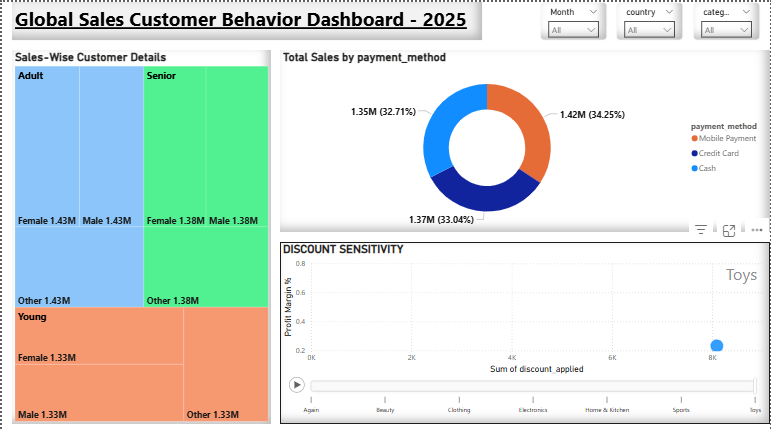

Layout of this report page (visuals, bound fields, positions):
{"tool":"powerbi","page":{"name":"CUSTOMER BEHAVIOR","canvas":[1280,720],"ordinal":2},"visuals":[{"type":"treemap","title":"Sales-Wise Customer Details","fields":{"Group":["Dim_Customer.customer_age_group"],"Details":["Dim_Customer.customer_gender"],"Values":["sales fact_sales.Total Sales"]},"box":[16,80,432,624],"z":0},{"type":"donutChart","fields":{"Category":["sales fact_sales.payment_method"],"Y":["sales fact_sales.Total Sales"]},"box":[464,80,816,304],"z":1},{"type":"scatterChart","title":"DISCOUNT SENSITIVITY","fields":{"X":["Sum(sales fact_sales.discount_applied)"],"Y":["sales fact_sales.Profit Margin %"],"Size":["sales fact_sales.Total Sales"],"Play":["Dim_Product.category"]},"box":[464,400,816,304],"z":2},{"type":"textbox","box":[16,0,784,64],"z":3},{"type":"slicer","fields":{"Values":["Dim_Date.Month Name"]},"box":[896,0,112,64],"z":4},{"type":"slicer","fields":{"Values":["DIM_STORE.country"]},"box":[1024,0,112,64],"z":5},{"type":"slicer","fields":{"Values":["Dim_Product.category"]},"box":[1152,0,112,64],"z":6}]}

Visuals, with their boxes in screenshot pixels (x1, y1, x2, y2), scaled from the page's 1280x720 canvas onto the 771x429 screenshot:
"Sales-Wise Customer Details" treemap: [x1=10, y1=48, x2=270, y2=419]
donutChart - sales fact_sales.payment_method x sales fact_sales.Total Sales: [x1=279, y1=48, x2=770, y2=229]
"DISCOUNT SENSITIVITY" scatterChart: [x1=279, y1=238, x2=770, y2=419]
textbox: [x1=10, y1=0, x2=482, y2=38]
slicer - Dim_Date.Month Name: [x1=540, y1=0, x2=607, y2=38]
slicer - DIM_STORE.country: [x1=617, y1=0, x2=684, y2=38]
slicer - Dim_Product.category: [x1=694, y1=0, x2=761, y2=38]
